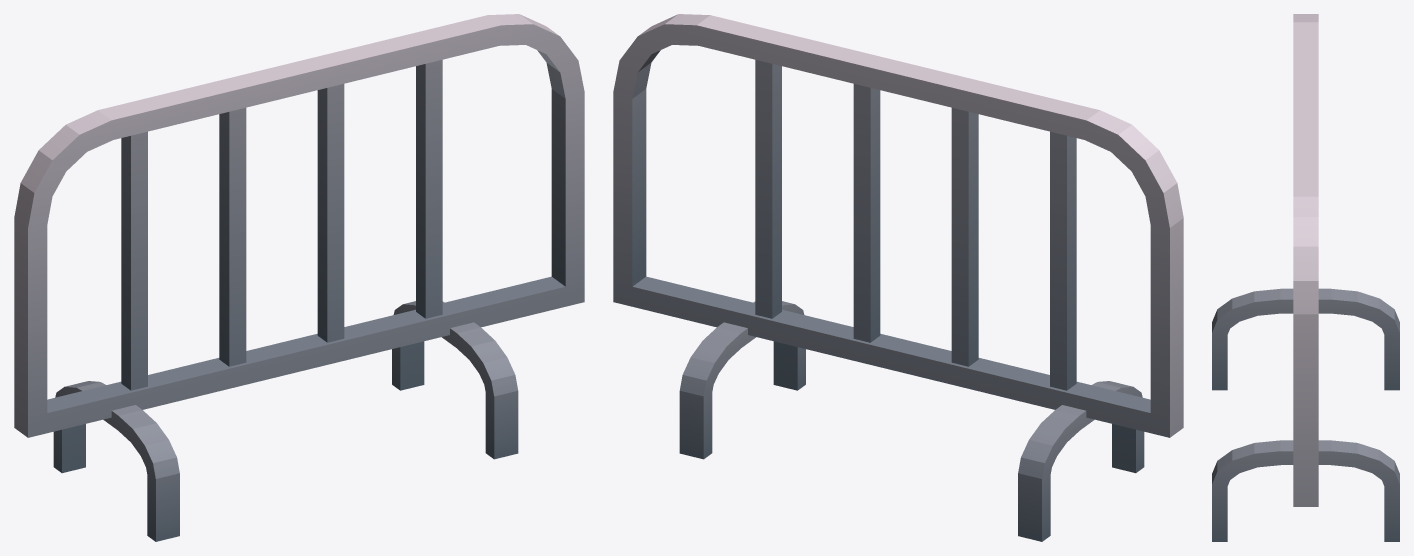
Rendered from lpb_fence_11.fbx.
3 renders of one model, left to right at view 1: azimuth 30°, elevation 25°; view 2: azimuth 150°, elevation 25°; view 3: azimuth 270°, elevation 25°, orthographic. The views are drawn at different scales.
Parts seen in each view (by area): view 1: fence11; view 2: fence11; view 3: fence11.
Part boxes in pixels (<box>): fence11: <box>14,14,584,541</box>; fence11: <box>613,14,1183,541</box>; fence11: <box>1212,14,1399,541</box>.
Bounding box in the file's own units: 299 × 200 × 95.23.
